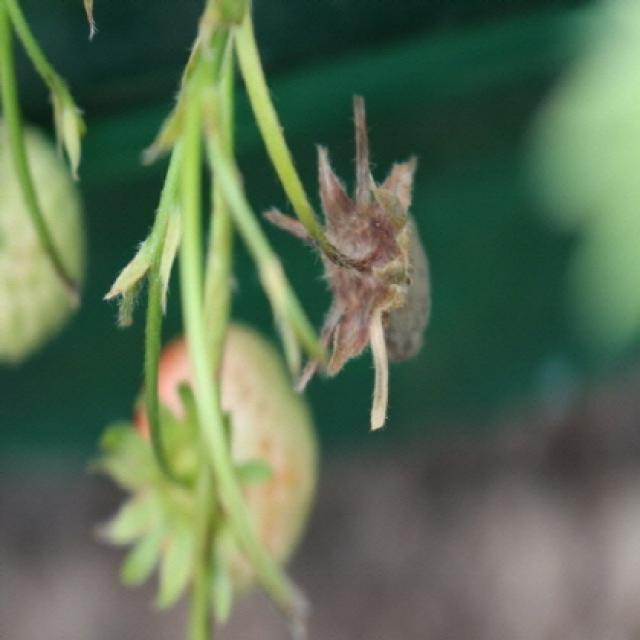Gray Mold: (262, 94, 432, 433)
